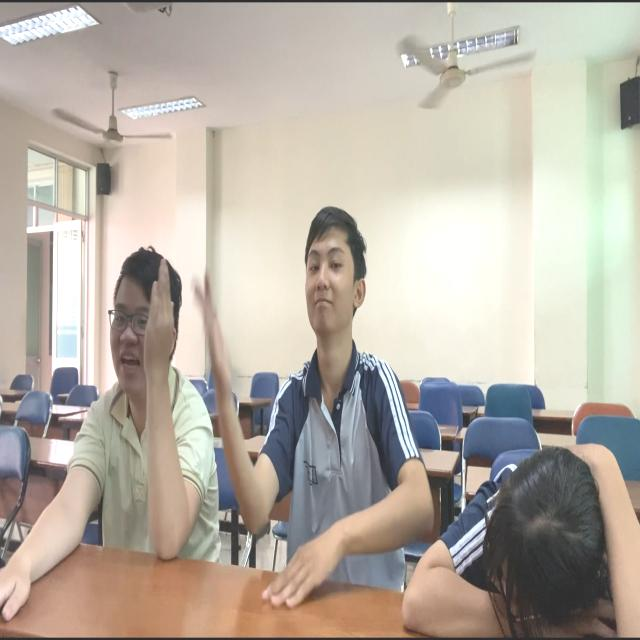raise_hand: (204, 196, 411, 586), (57, 249, 201, 563)
sleep: (414, 442, 640, 640)
